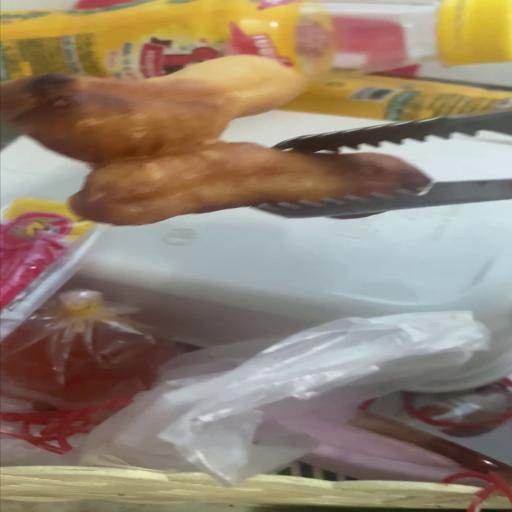street_burnt_good: (0, 56, 429, 226)
